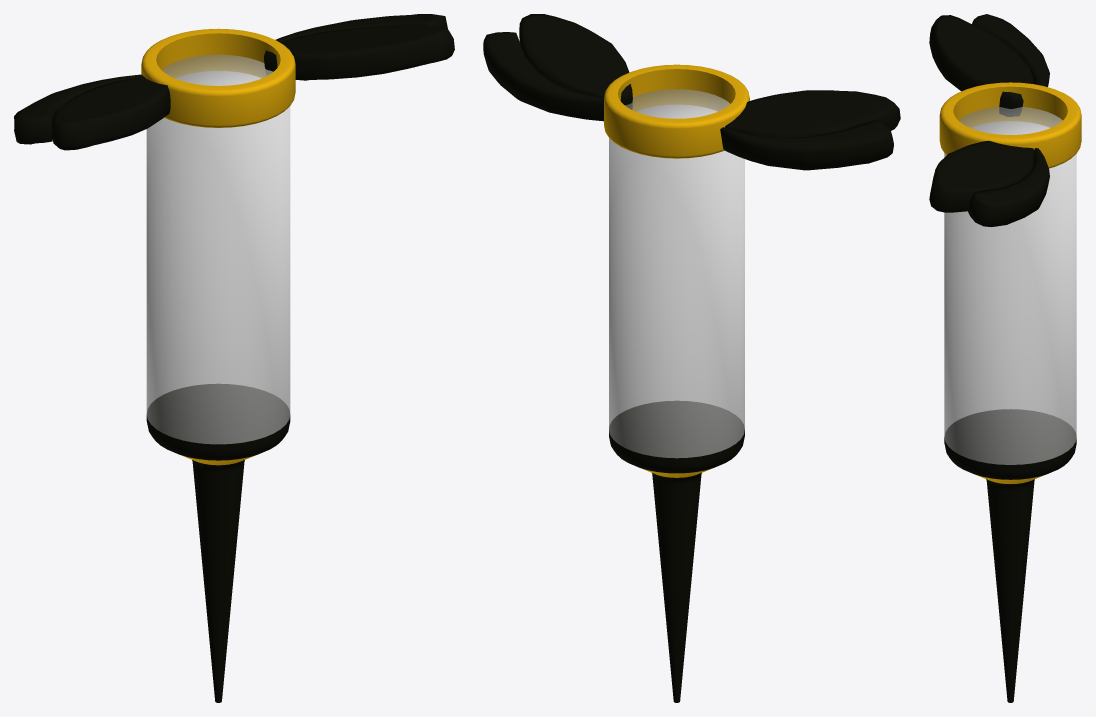
Rendered from barrel.fbx.
3 renders of one model, left to right at view 1: azimuth 30°, elevation 25°; view 2: azimuth 150°, elevation 25°; view 3: azimuth 270°, elevation 25°, orthographic. The views are drawn at different scales.
Visible parts, largest first — view 1: barrel; view 2: barrel; view 3: barrel.
Boxes of the visible parts, box(x1,y1,x2,y2) form: barrel: box(14, 14, 454, 702); barrel: box(483, 14, 900, 702); barrel: box(929, 14, 1081, 702).
Bounding box in the file's own units: 0.4981 × 0.7217 × 0.1657.
